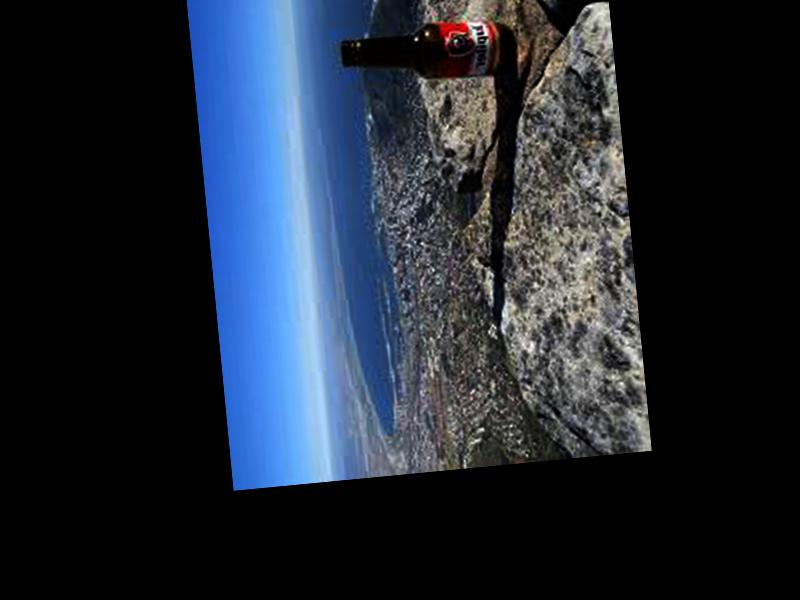Beer: (337, 15, 511, 89)
